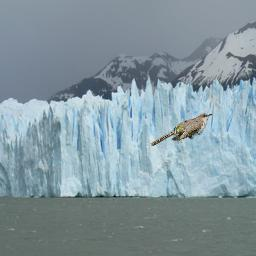Cuckoo: (150, 113, 212, 146)
